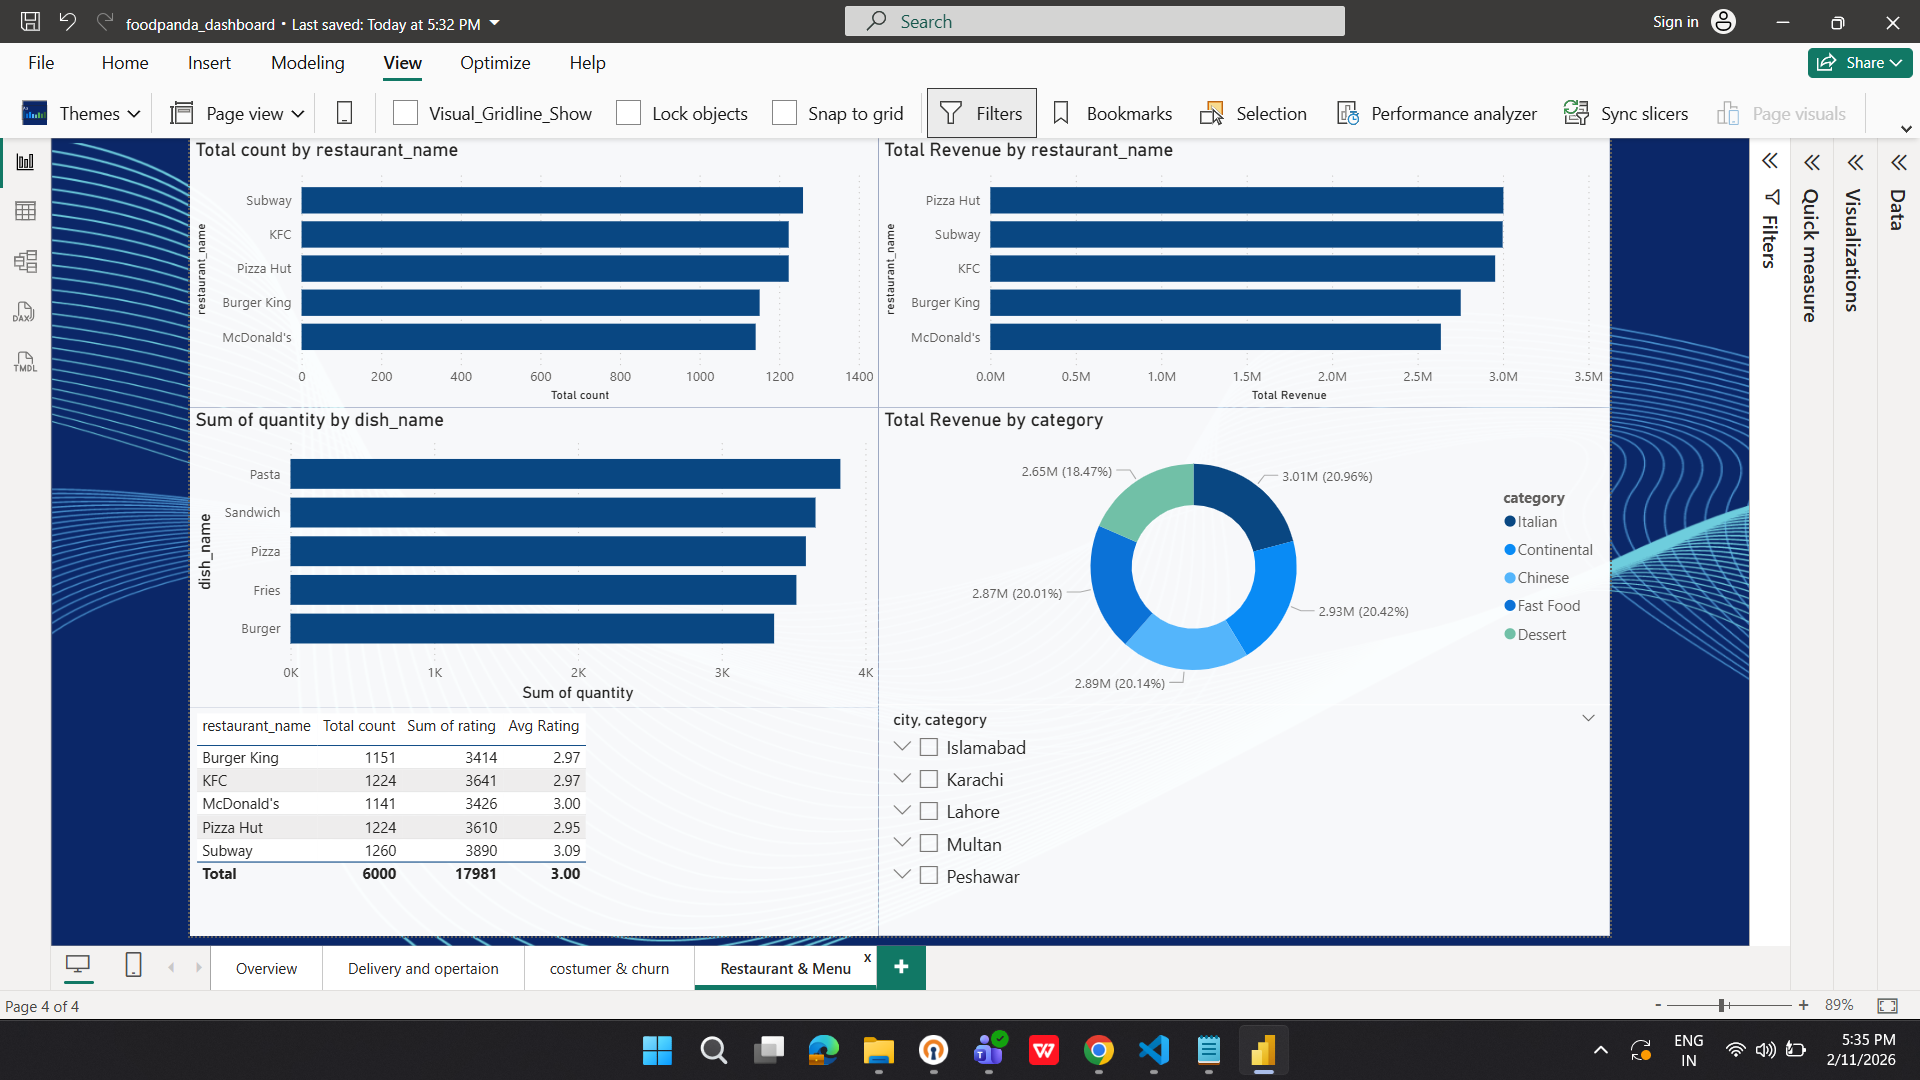

The page's visual inventory and layout, read from the dashboard file:
{"tool":"powerbi","page":{"name":"Restaurant & Menu","canvas":[1280,720],"ordinal":3},"visuals":[{"type":"clusteredBarChart","fields":{"Category":["Foodpanda Analysis Dataset.restaurant_name"],"Y":["Foodpanda Analysis Dataset.Total count"]},"box":[0,0,621.2,243.3],"z":0},{"type":"clusteredBarChart","fields":{"Category":["Foodpanda Analysis Dataset.restaurant_name"],"Y":["Foodpanda Analysis Dataset.Total Revenue"]},"box":[621.2,0,659.1,243.3],"z":1},{"type":"clusteredBarChart","fields":{"Category":["Foodpanda Analysis Dataset.dish_name"],"Y":["Sum(Foodpanda Analysis Dataset.quantity)"]},"box":[0,243.3,621.2,270.2],"z":2},{"type":"donutChart","fields":{"Category":["Foodpanda Analysis Dataset.category"],"Y":["Foodpanda Analysis Dataset.Total Revenue"]},"box":[621.2,243.3,659.1,267.8],"z":3},{"type":"tableEx","fields":{"Values":["Foodpanda Analysis Dataset.restaurant_name","Foodpanda Analysis Dataset.Total count","Sum(Foodpanda Analysis Dataset.rating)","Foodpanda Analysis Dataset.Avg Rating"]},"box":[0,513.6,621.2,206.7],"z":4},{"type":"slicer","fields":{"Values":["Foodpanda Analysis Dataset.city","Foodpanda Analysis Dataset.category"]},"box":[621.2,511.1,659.1,209.1],"z":5}]}

Visuals, with their boxes on the page's 1280x720 design canvas (x1, y1, x2, y2). These are canvas units, not pixel positions in the 1920x1080 screenshot, which may show the page scaled, cropped or inside an application window:
clusteredBarChart - Foodpanda Analysis Dataset.restaurant_name x Foodpanda Analysis Dataset.Total count: BBox(0, 0, 621, 243)
clusteredBarChart - Foodpanda Analysis Dataset.restaurant_name x Foodpanda Analysis Dataset.Total Revenue: BBox(621, 0, 1280, 243)
clusteredBarChart - Foodpanda Analysis Dataset.dish_name x Sum(Foodpanda Analysis Dataset.quantity): BBox(0, 243, 621, 514)
donutChart - Foodpanda Analysis Dataset.category x Foodpanda Analysis Dataset.Total Revenue: BBox(621, 243, 1280, 511)
tableEx - Foodpanda Analysis Dataset.restaurant_name x Foodpanda Analysis Dataset.Total count: BBox(0, 514, 621, 720)
slicer - Foodpanda Analysis Dataset.city x Foodpanda Analysis Dataset.category: BBox(621, 511, 1280, 720)
